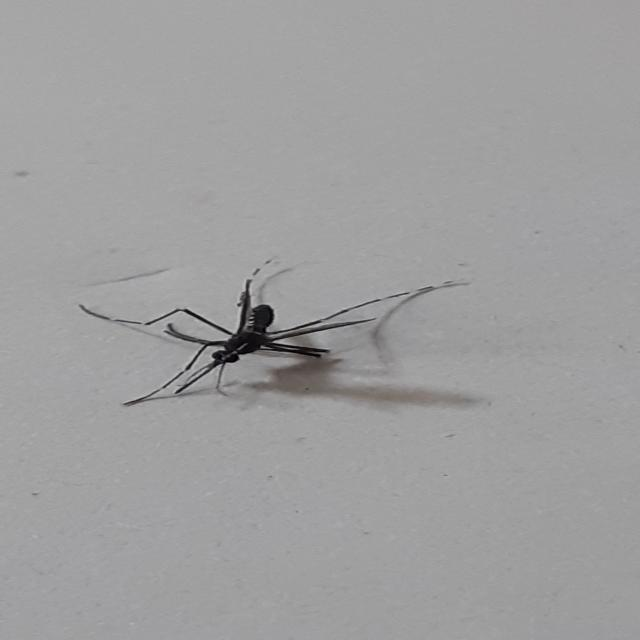albopictus: (84, 253, 465, 405)
